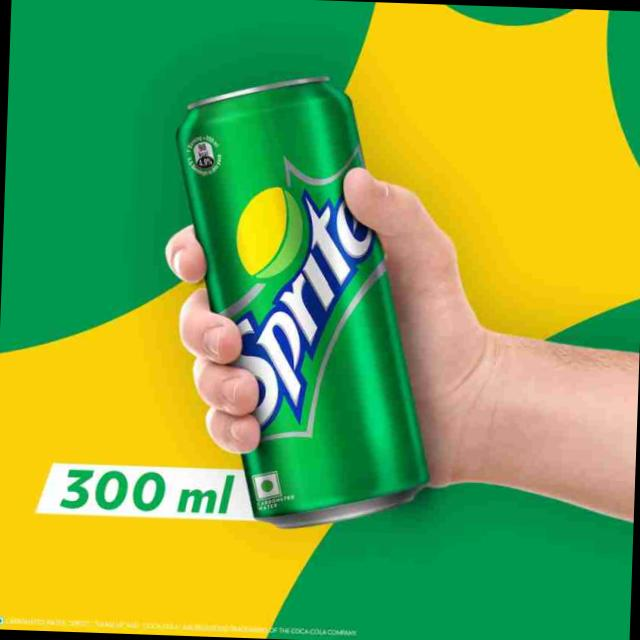sprite: (130, 72, 451, 575)
